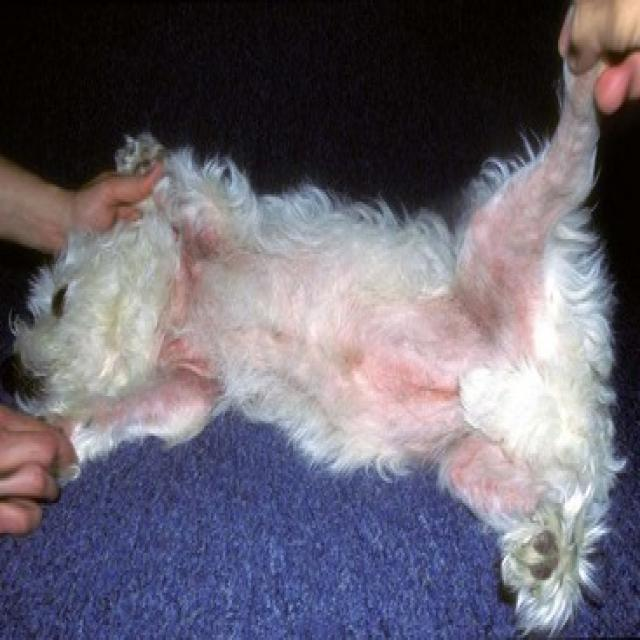qua man cho: (326, 296, 478, 451)
